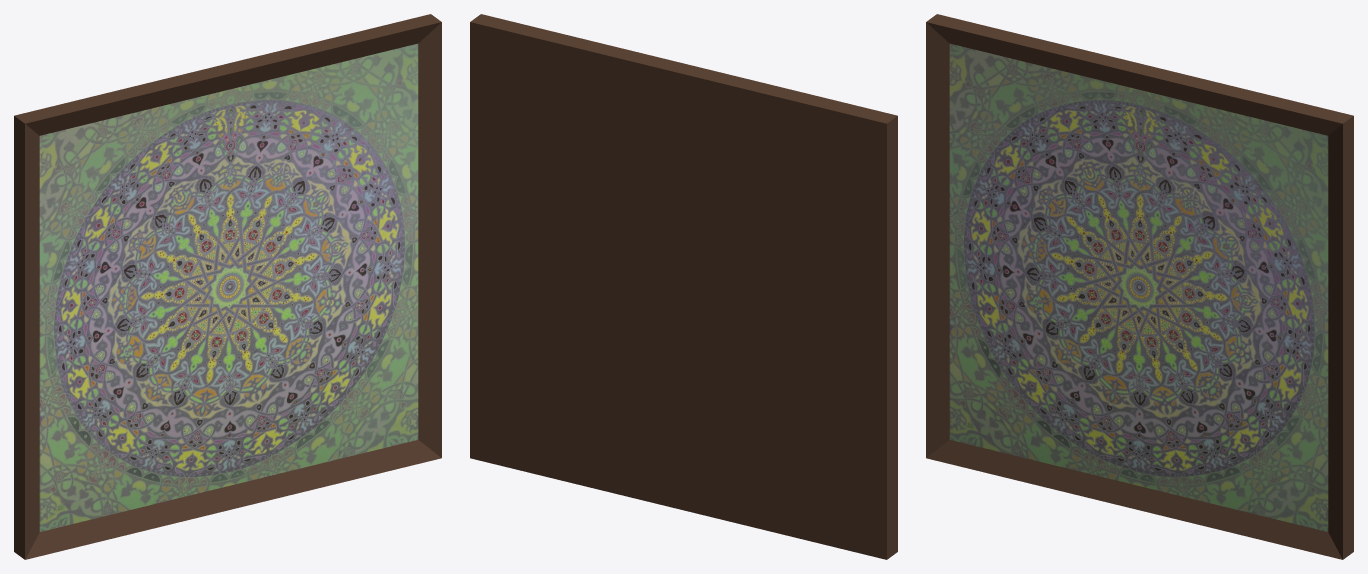
The model's file is tridecagon-moon-star-tridecagon-sage-green-a1-walnut-tray-v2.glb.
3 renders of one model, left to right at view 1: azimuth 30°, elevation 25°; view 2: azimuth 150°, elevation 25°; view 3: azimuth 330°, elevation 25°, orthographic.
Parts seen in each view (by area): view 1: FramedPrint; view 2: FramedPrint; view 3: FramedPrint.
Boxes of the visible parts, x1,y1,x2,y2 form: FramedPrint: (14,14,441,559); FramedPrint: (470,14,897,559); FramedPrint: (926,14,1353,559).
Bounding box in the file's own units: 0.655 × 0.655 × 0.03.
2 materials, 1 textured.
